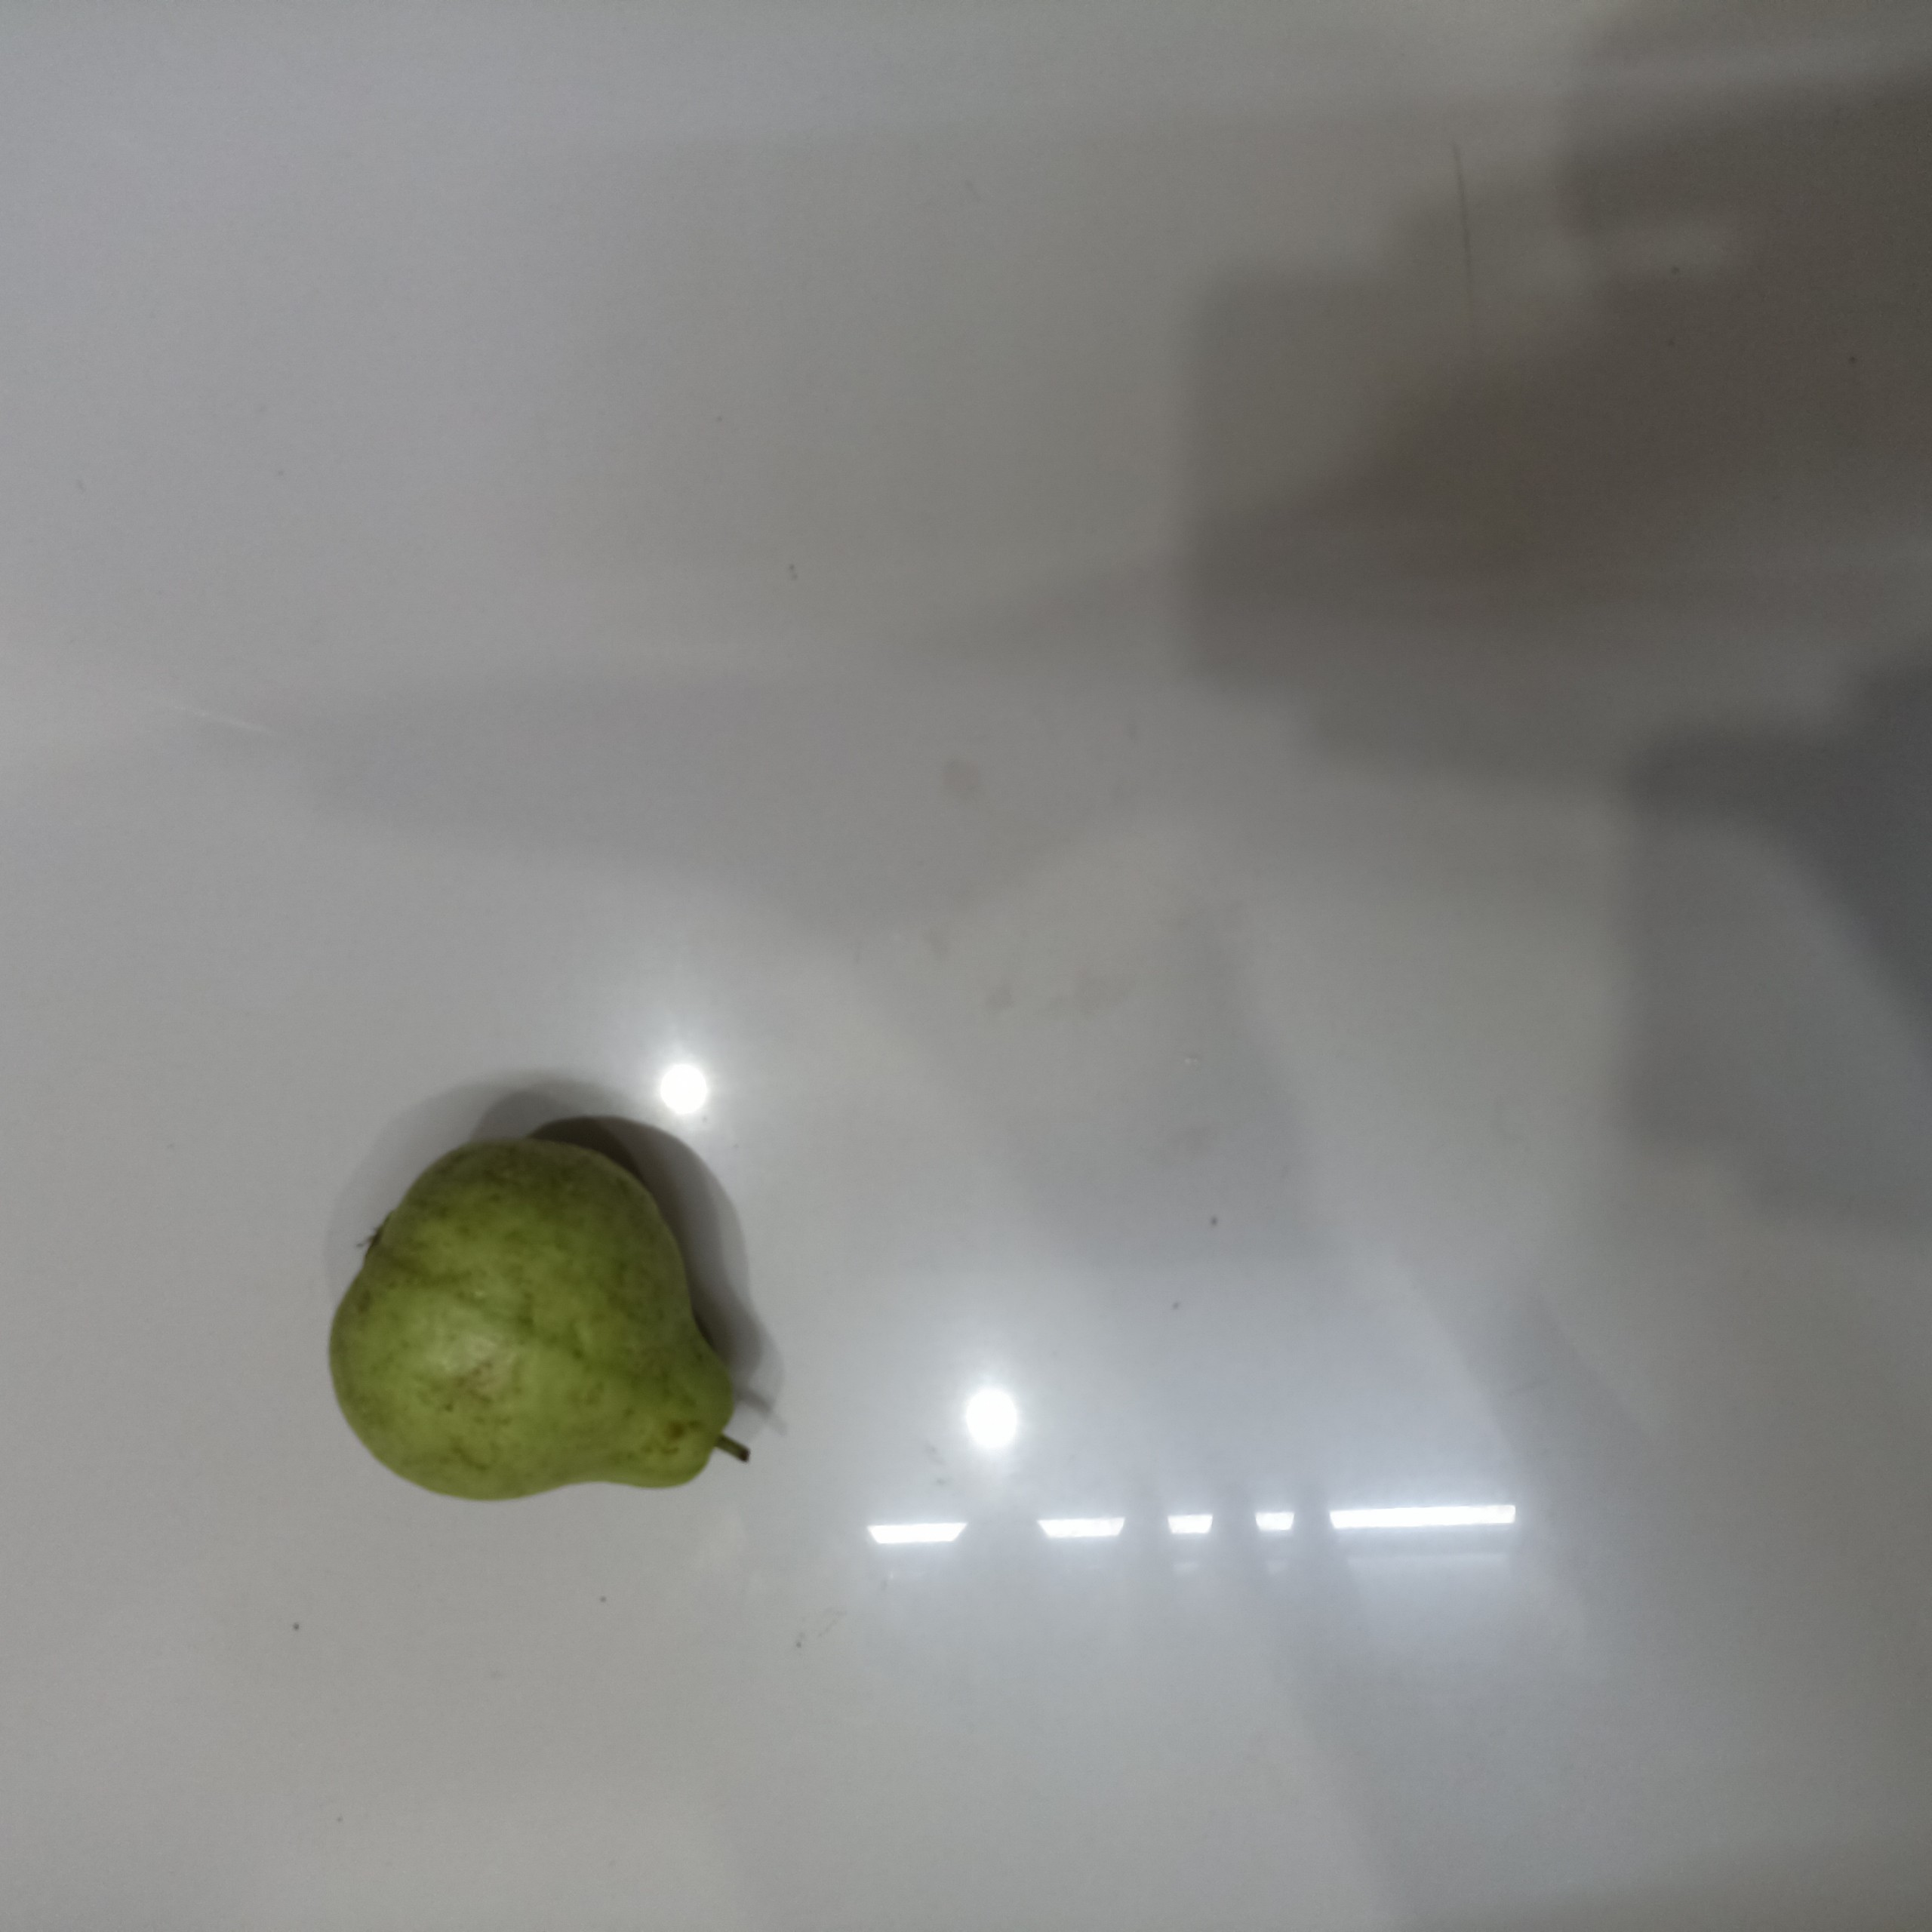Oi: (324, 1137, 753, 1503)
